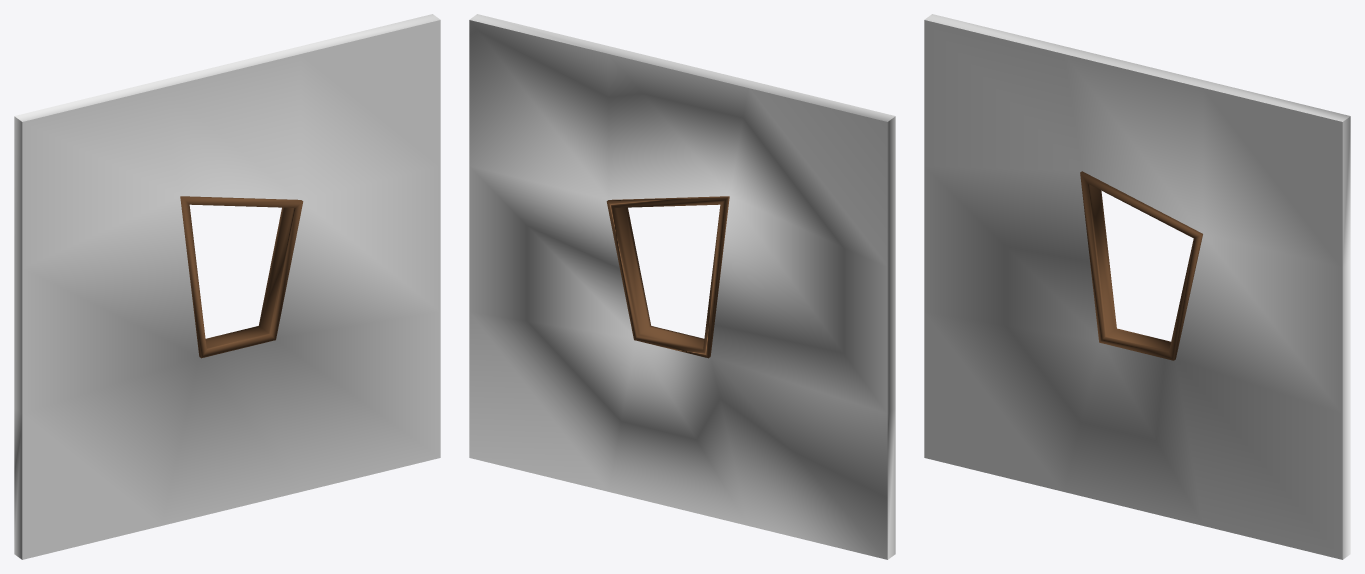
File: WallWindow2.fbx
3 views of the same model, side by side, from view 1: azimuth 30°, elevation 25°; view 2: azimuth 150°, elevation 25°; view 3: azimuth 330°, elevation 25° (orthographic).
Parts seen in each view (by area): view 1: WallWindow2; view 2: WallWindow2; view 3: WallWindow2.
Part boxes in pixels (bbox=[...]): WallWindow2: bbox=[14, 14, 440, 559]; WallWindow2: bbox=[469, 14, 895, 559]; WallWindow2: bbox=[924, 14, 1350, 559].
Bounding box in the file's own units: 300 × 300 × 15.13.
